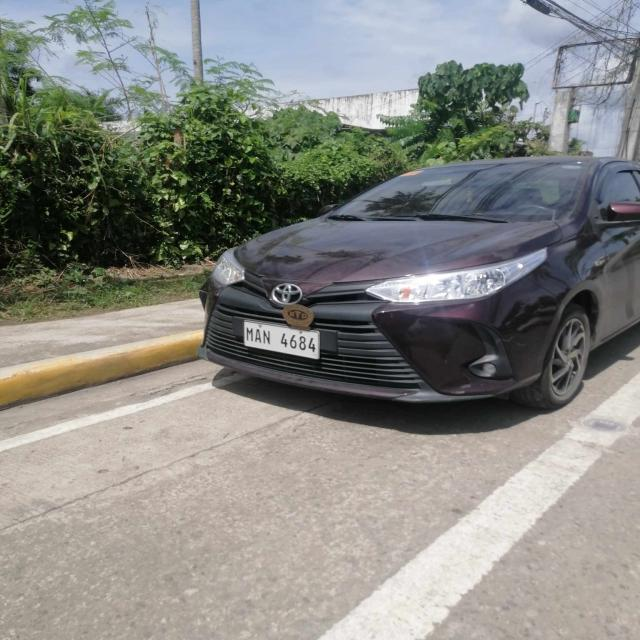license-plate: (244, 321, 319, 359)
